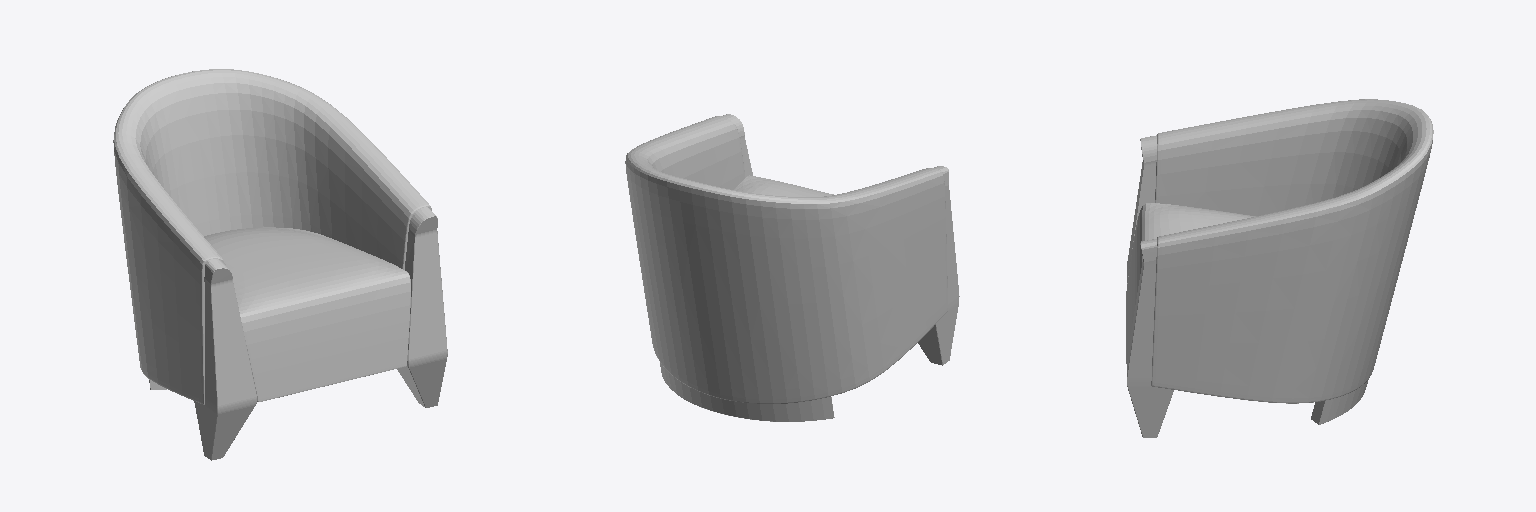
File: armchair 003.obj
3 renders of one model, left to right at view 1: azimuth 30°, elevation 25°; view 2: azimuth 150°, elevation 25°; view 3: azimuth 270°, elevation 25°, orthographic.
Parts seen in each view (by area): view 1: obj_05, obj_03, obj_02, obj_01; view 2: obj_05, obj_04, obj_02, obj_03; view 3: obj_05, obj_01, obj_03, obj_02, obj_04.
Part boxes in pixels (x1,y1,x2,y2): obj_05: (113,69,431,404); obj_03: (204,227,410,401); obj_02: (194,259,256,460); obj_01: (397,207,447,407); obj_05: (625,116,947,403); obj_04: (660,363,834,421); obj_02: (918,166,959,365); obj_03: (734,175,833,196); obj_05: (1151,99,1433,403); obj_01: (1127,239,1173,437); obj_03: (1126,203,1255,363); obj_02: (1127,135,1156,283); obj_04: (1311,379,1368,424).
Size of the model in its own units: 26.31 by 27.49 by 30.08.